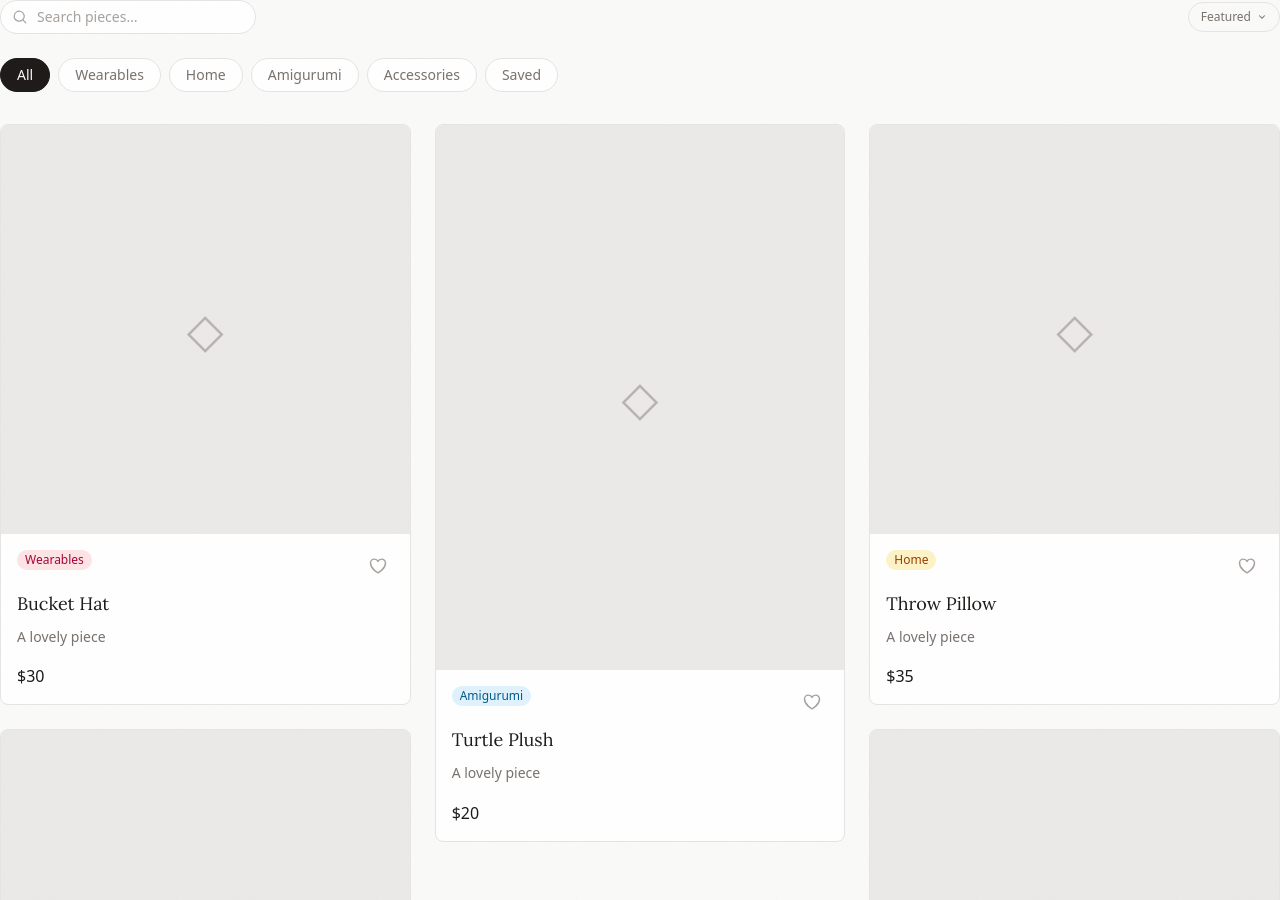
it: Gallery — category filter › Home filter shows only home items
Click the button "Home".
click(206, 75)  # box [169,58,243,92]
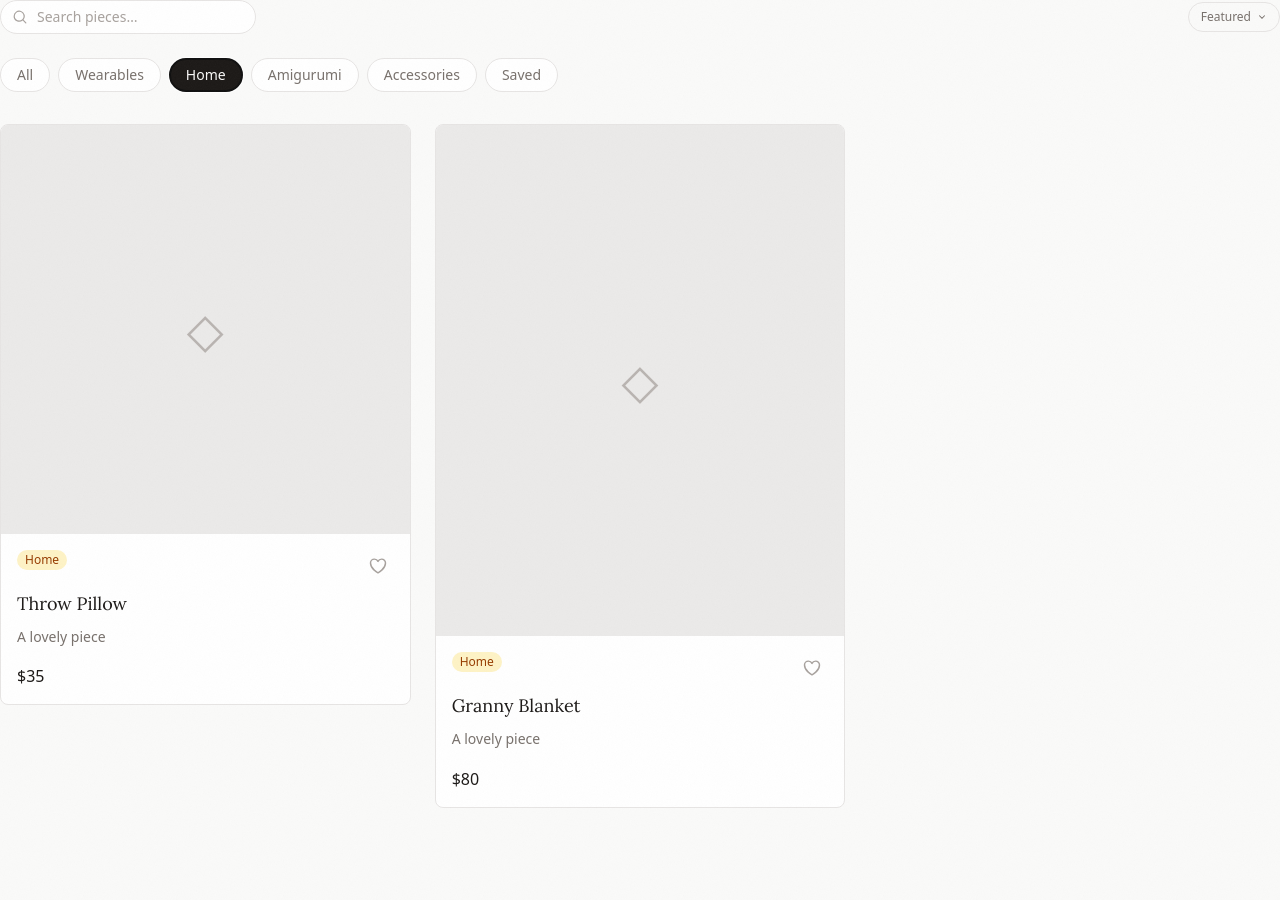
Check: the heading "Throw Pillow" is shown, box [17,592,127,615]
Check: the link "Bucket Hat" is gone
